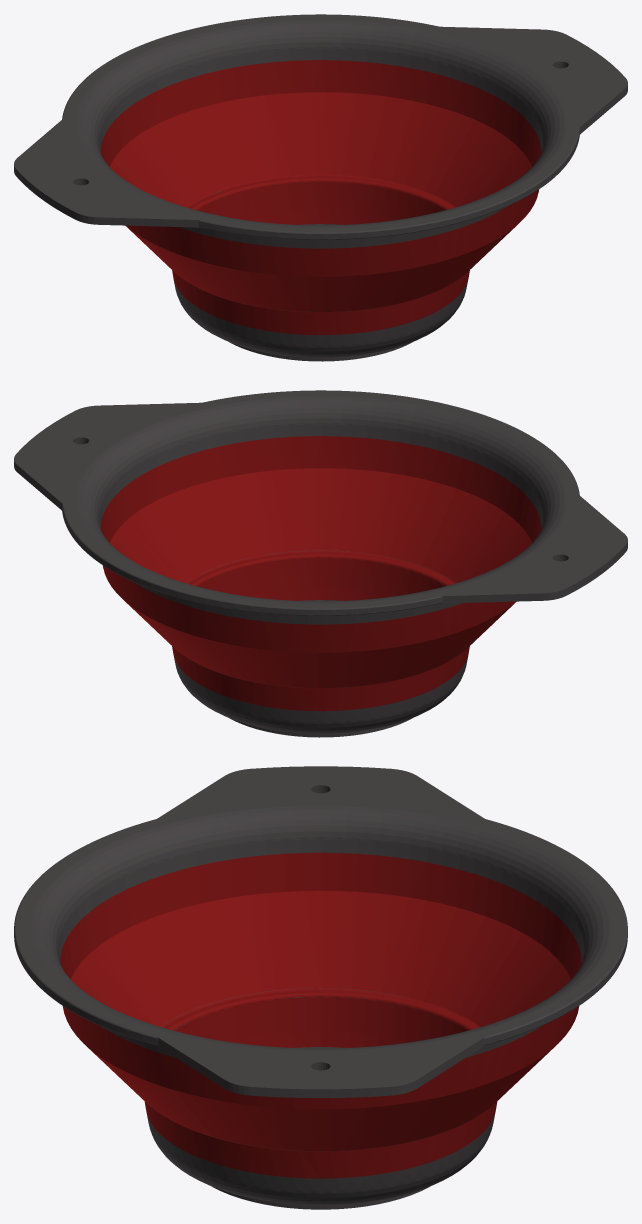
The model's file is bowl.dae.
The picture shows the model from 3 angles, top to bottom: view 1: azimuth 30°, elevation 25°; view 2: azimuth 150°, elevation 25°; view 3: azimuth 270°, elevation 25°; orthographic projection. The views are drawn at different scales.
Visible parts, largest first — view 1: Bowl; view 2: Bowl; view 3: Bowl.
Boxes of the visible parts, left/top/right/bottom form: Bowl: left=14, top=14, right=627, bottom=361; Bowl: left=14, top=390, right=627, bottom=737; Bowl: left=14, top=766, right=627, bottom=1209.
Size of the model in its own units: 0.3939 by 0.3165 by 0.1275.
